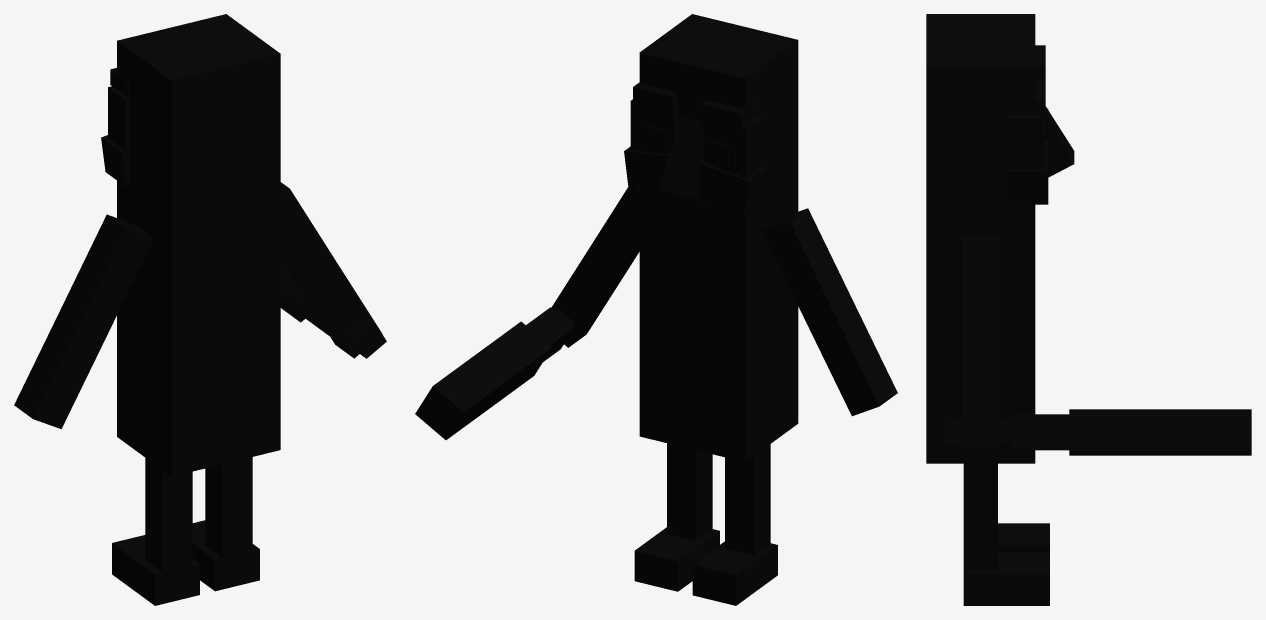
The picture shows the model from 3 angles, left to right: view 1: azimuth 30°, elevation 25°; view 2: azimuth 150°, elevation 25°; view 3: azimuth 270°, elevation 25°; orthographic projection. The views are drawn at different scales.
Parts seen in each view (by area): view 1: _gltfNode_0; view 2: _gltfNode_0; view 3: _gltfNode_0.
Boxes of the visible parts, x1,y1,x2,y2 form: _gltfNode_0: (14,14,386,605); _gltfNode_0: (415,14,897,605); _gltfNode_0: (926,14,1251,605).
Bounding box in the file's own units: 1.48 × 2.15 × 1.18.
1 material, 1 textured.
